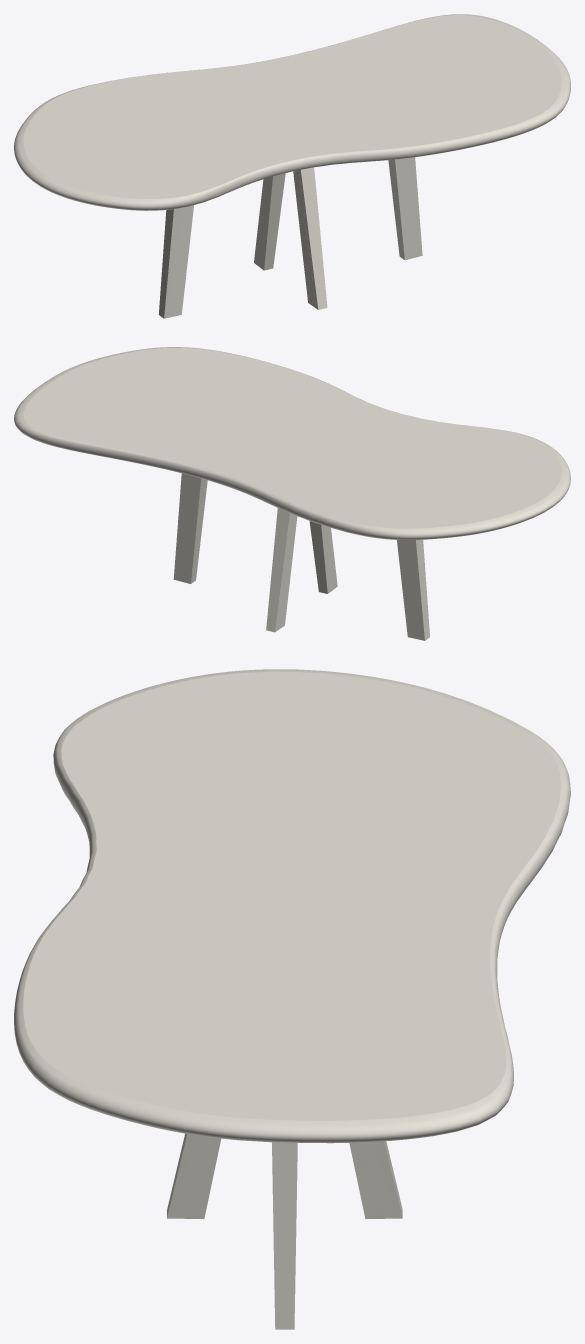
The model's file is pale_wave_round_searwalnut.glb.
3 renders of one model, top to bottom at view 1: azimuth 30°, elevation 25°; view 2: azimuth 150°, elevation 25°; view 3: azimuth 270°, elevation 25°, orthographic. The views are drawn at different scales.
Visible parts, largest first — view 1: round_wave, searwalnut; view 2: round_wave, searwalnut; view 3: round_wave, searwalnut.
Boxes of the visible parts, <box> form: round_wave: <box>14,14,570,210</box>; searwalnut: <box>158,157,422,318</box>; round_wave: <box>14,347,570,540</box>; searwalnut: <box>173,473,429,640</box>; round_wave: <box>14,669,570,1143</box>; searwalnut: <box>167,1133,402,1329</box>.
Size of the model in its own units: 7.76 by 2.5 by 3.93.
Materials: 1 (1 with a texture image).
